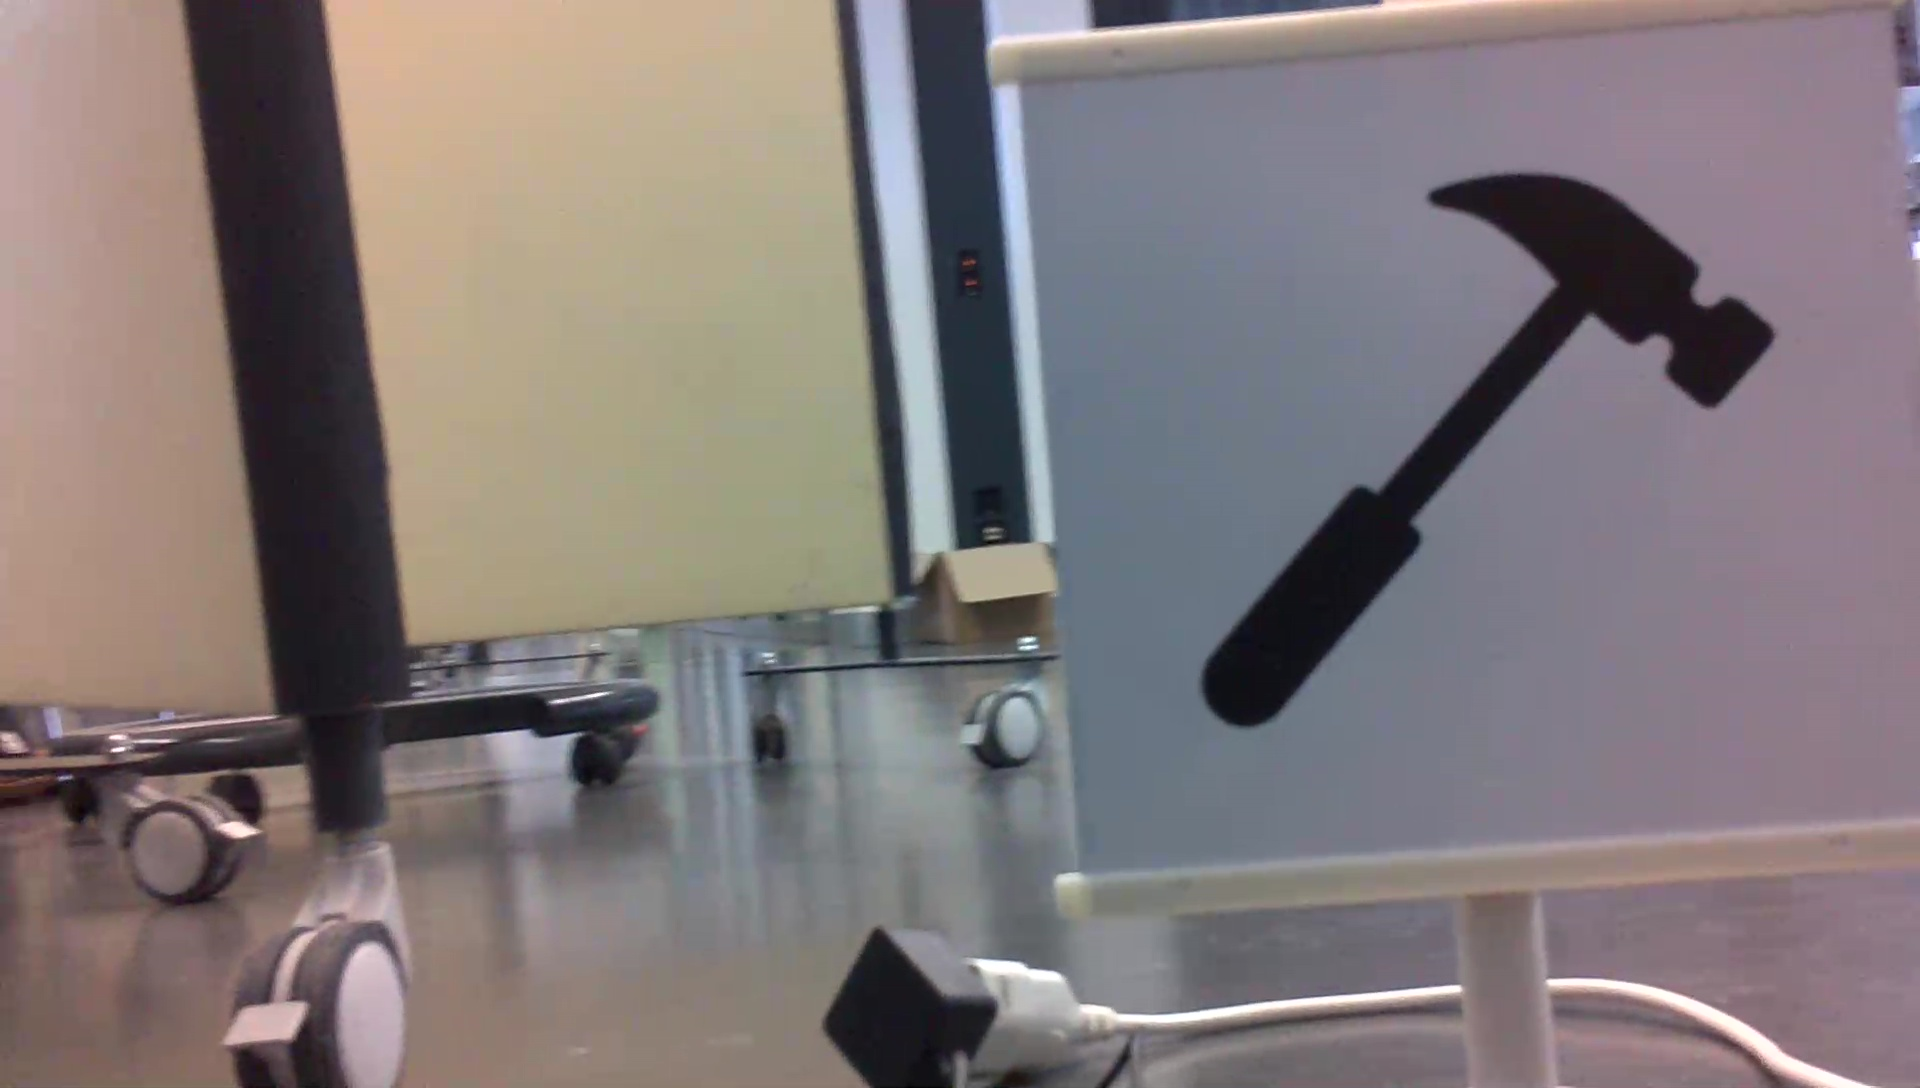hammer: (1191, 164, 1784, 735)
